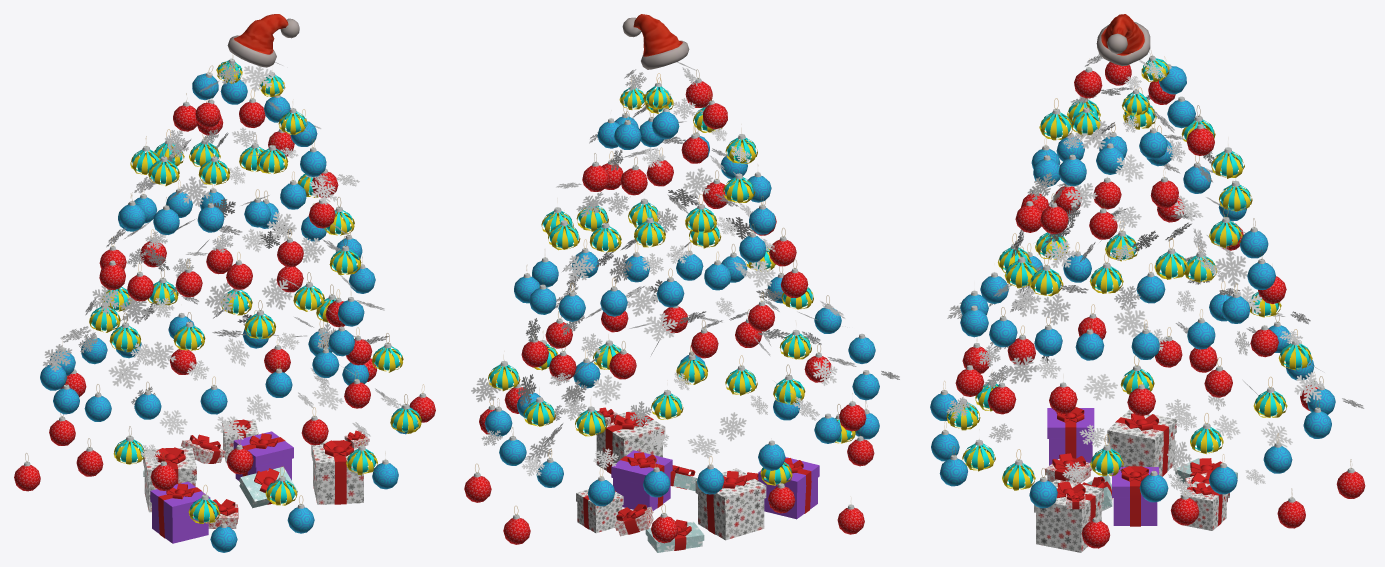
File: ornaments.glb
3 renders of one model, left to right at view 1: azimuth 30°, elevation 25°; view 2: azimuth 150°, elevation 25°; view 3: azimuth 270°, elevation 25°, orthographic. The views are drawn at different scales.
Parts seen in each view (by area): view 1: pPlane4; view 2: pPlane4; view 3: pPlane4.
Boxes of the visible parts, left/top/right/bottom form: pPlane4: left=14, top=14, right=435, bottom=552; pPlane4: left=464, top=14, right=899, bottom=552; pPlane4: left=930, top=14, right=1365, bottom=552.
Size of the model in its own units: 8.66 by 10.19 by 8.12.
1 material, 1 textured.
